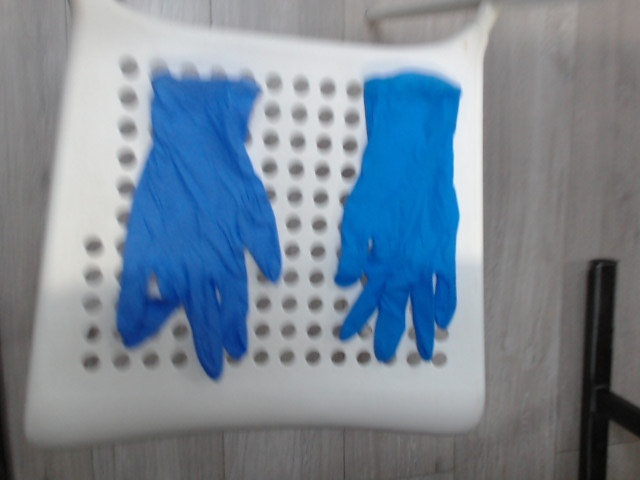medical_glove: (117, 77, 281, 377), (340, 72, 462, 364)
